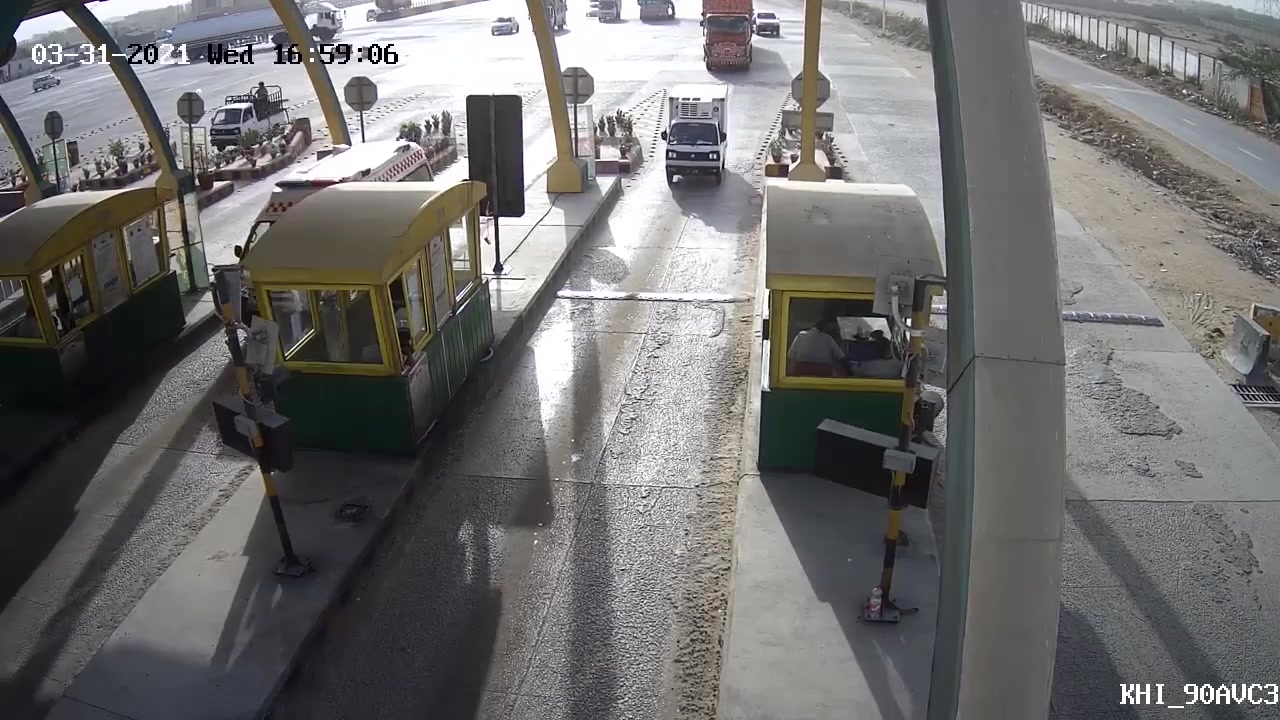F1: (659, 86, 735, 187)
